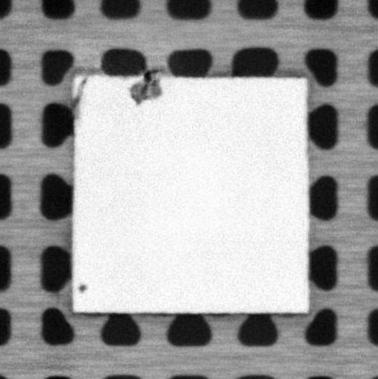DIE_INK: (126, 74, 163, 104), (73, 76, 88, 112), (77, 282, 88, 294)
